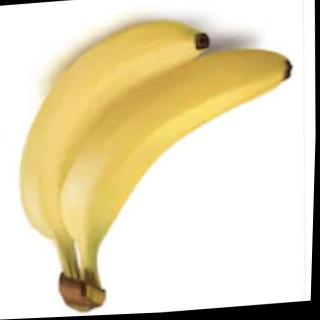banana: (55, 44, 302, 246), (12, 17, 220, 245)
